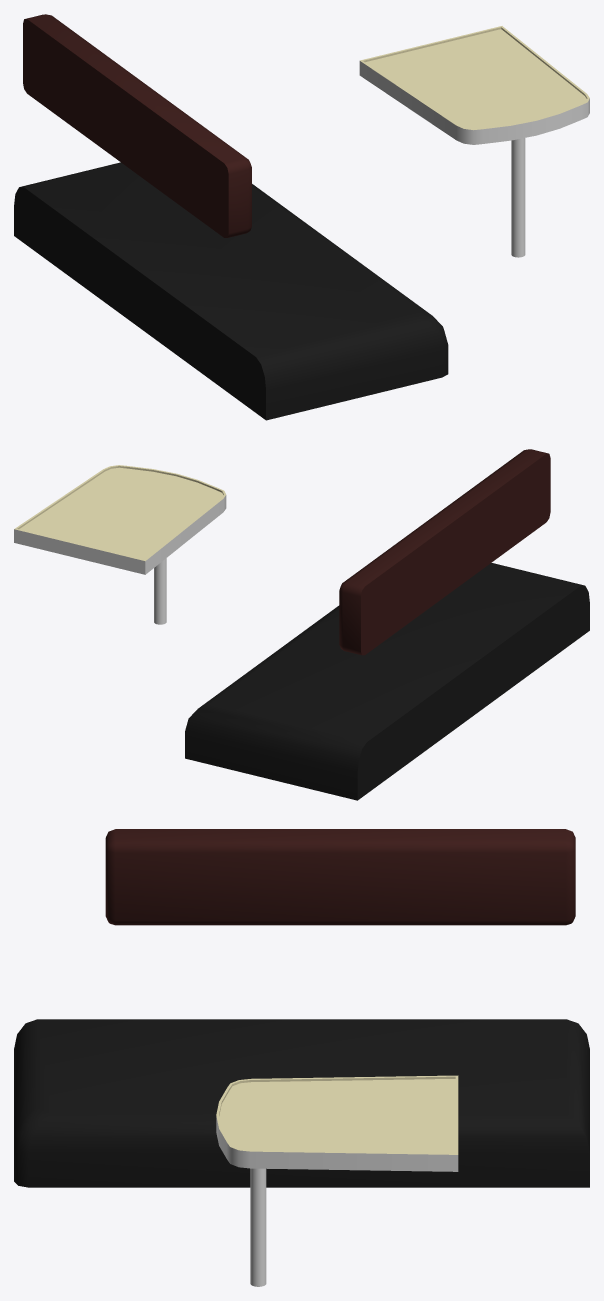
Rendered from Sit.fbx.
3 views of the same model, one above another, from view 1: azimuth 30°, elevation 25°; view 2: azimuth 150°, elevation 25°; view 3: azimuth 270°, elevation 25° (orthographic). The views are drawn at different scales.
Visible parts, largest first — view 1: Cube, Cube.001, Cube.002; view 2: Cube, Cube.001, Cube.002; view 3: Cube, Cube.001, Cube.002.
Part boxes in pixels (<box>): Cube: <box>14,162,448,420</box>; Cube.001: <box>23,14,251,237</box>; Cube.002: <box>359,26,589,257</box>; Cube: <box>185,563,589,800</box>; Cube.001: <box>339,449,550,655</box>; Cube.002: <box>14,465,226,624</box>; Cube: <box>14,1019,589,1187</box>; Cube.001: <box>105,829,575,925</box>; Cube.002: <box>216,1075,458,1286</box>.
Size of the model in its own units: 483 by 240 by 490.
